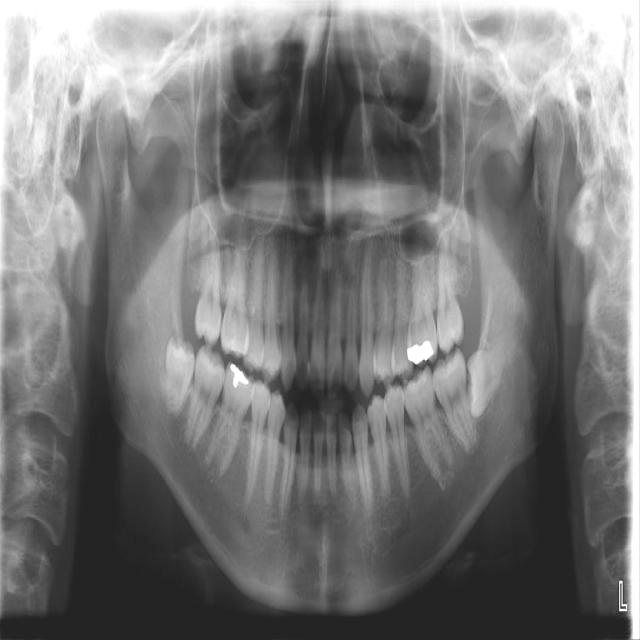Filling: (407, 340, 434, 364), (229, 363, 251, 389)
impacted tooth: (467, 345, 506, 417), (162, 338, 193, 413)
